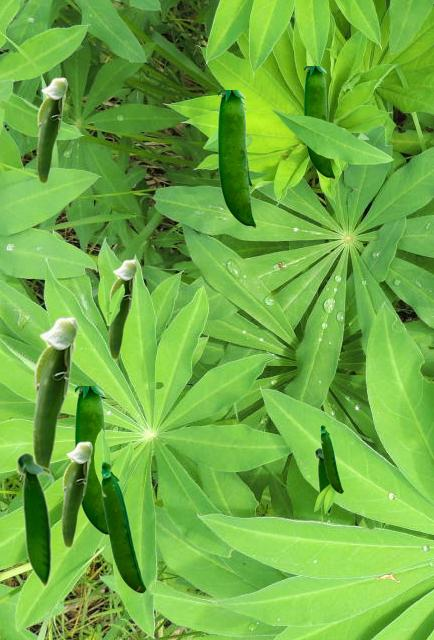pea: (32, 316, 78, 474), (100, 460, 145, 592), (218, 90, 255, 228), (15, 451, 51, 589), (75, 386, 107, 535), (304, 66, 334, 179), (36, 77, 67, 183), (61, 441, 92, 547), (108, 259, 137, 359), (320, 424, 342, 492), (314, 447, 331, 515), (243, 100, 251, 186)
